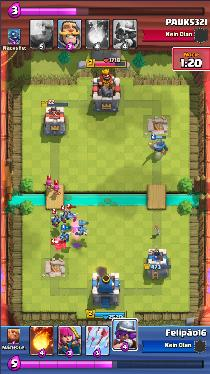ally_knight: (149, 138, 169, 154)
ally_minion: (76, 226, 87, 236), (60, 232, 70, 242)
enemy_archer: (53, 184, 61, 193), (45, 180, 52, 188)
enemy_mini_pekka: (51, 239, 65, 251)
enemy_minion: (50, 216, 59, 226), (60, 212, 67, 223), (67, 211, 75, 220)
